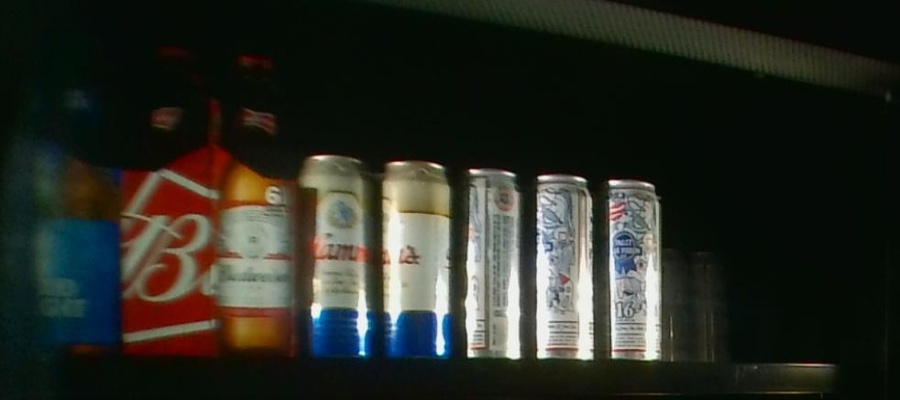bottle: (123, 46, 300, 355), (456, 162, 658, 356), (1, 45, 119, 350), (300, 152, 452, 355), (658, 246, 732, 362)
